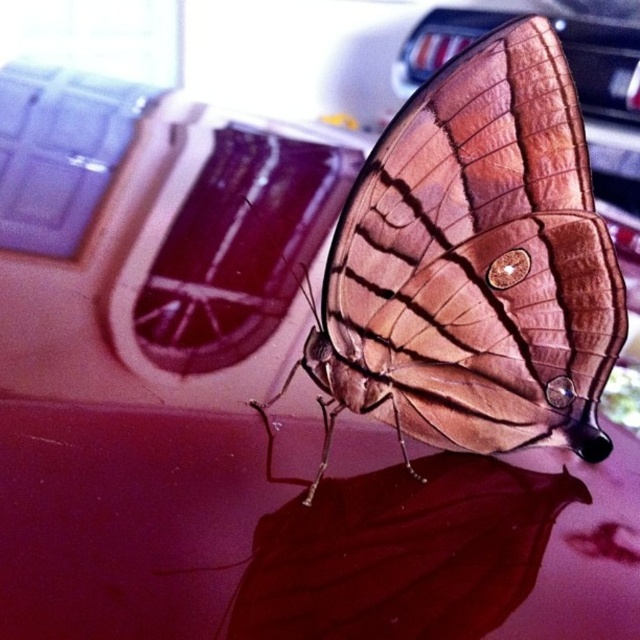Butterfly: (250, 13, 631, 504)
